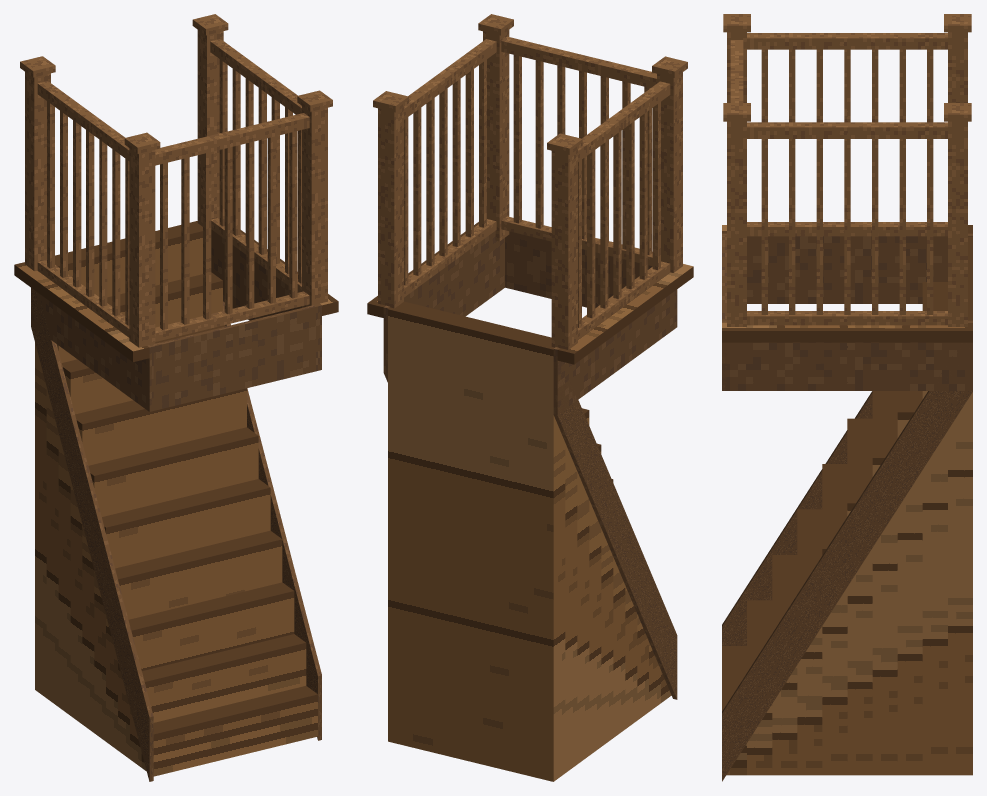
Rendered from t_stairs_down.glb.
3 renders of one model, left to right at view 1: azimuth 30°, elevation 25°; view 2: azimuth 150°, elevation 25°; view 3: azimuth 270°, elevation 25°, orthographic. The views are drawn at different scales.
Parts seen in each view (by area): view 1: block_down5, block_lining-s, block_down4, block_down6, block_down3, block_dstringer-1, block_down2, block_down1, block_down0, block_down9, block_down8, block_down7 (+35 smaller); view 2: block_down9, block_dstringer-1, block_newel-0.42,-0.44, block_newel0.42,-0.44, block_lining-1, block_lining1, block_newel0.42,0.44, block_newel-0.42,0.44, block_down8, block_lining-s, block_down7, block_down6 (+32 smaller); view 3: block_dstringer1, block_lining1, block_lining-1, block_down9, block_down8, block_down6, block_down7, block_down5, block_down4, block_down3, block_floor1, block_newel0.42,-0.44 (+31 smaller).
Part boxes in pixels (x1,y1,x2,y2): block_down5: [82, 427, 258, 732]; block_lining-s: [147, 303, 321, 411]; block_down4: [94, 479, 270, 741]; block_down6: [70, 388, 246, 723]; block_down3: [106, 530, 282, 750]; block_dstringer-1: [31, 288, 153, 781]; block_down2: [118, 582, 294, 758]; block_down1: [130, 634, 306, 767]; block_down0: [141, 686, 317, 776]; block_down9: [35, 221, 202, 697]; block_down8: [46, 272, 222, 706]; block_down7: [58, 325, 225, 715]; block_down9: [388, 301, 565, 781]; block_dstringer-1: [553, 350, 677, 699]; block_newel-0.42,-0.44: [551, 149, 577, 349]; block_newel0.42,-0.44: [378, 107, 403, 308]; block_lining-1: [553, 290, 677, 414]; block_lining1: [383, 231, 504, 372]; block_newel0.42,0.44: [483, 30, 509, 241]; block_newel-0.42,0.44: [657, 72, 682, 272]; block_down8: [565, 443, 577, 772]; block_lining-s: [505, 231, 677, 328]; block_down7: [577, 408, 589, 764]; block_down6: [589, 443, 601, 755]; block_dstringer1: [722, 343, 972, 781]; block_lining1: [722, 320, 972, 390]; block_lining-1: [722, 233, 972, 303]; block_down9: [948, 236, 972, 775]; block_down8: [922, 282, 947, 775]; block_down6: [872, 391, 897, 775]; block_down7: [897, 391, 922, 775]; block_down5: [847, 418, 872, 775]; block_down4: [822, 464, 847, 775]; block_down3: [797, 509, 822, 775]; block_floor1: [722, 322, 972, 342]; block_newel0.42,-0.44: [948, 121, 967, 326].
Size of the model in its own units: 1 by 2.96 by 1.
Materials: 1 (1 with a texture image).
